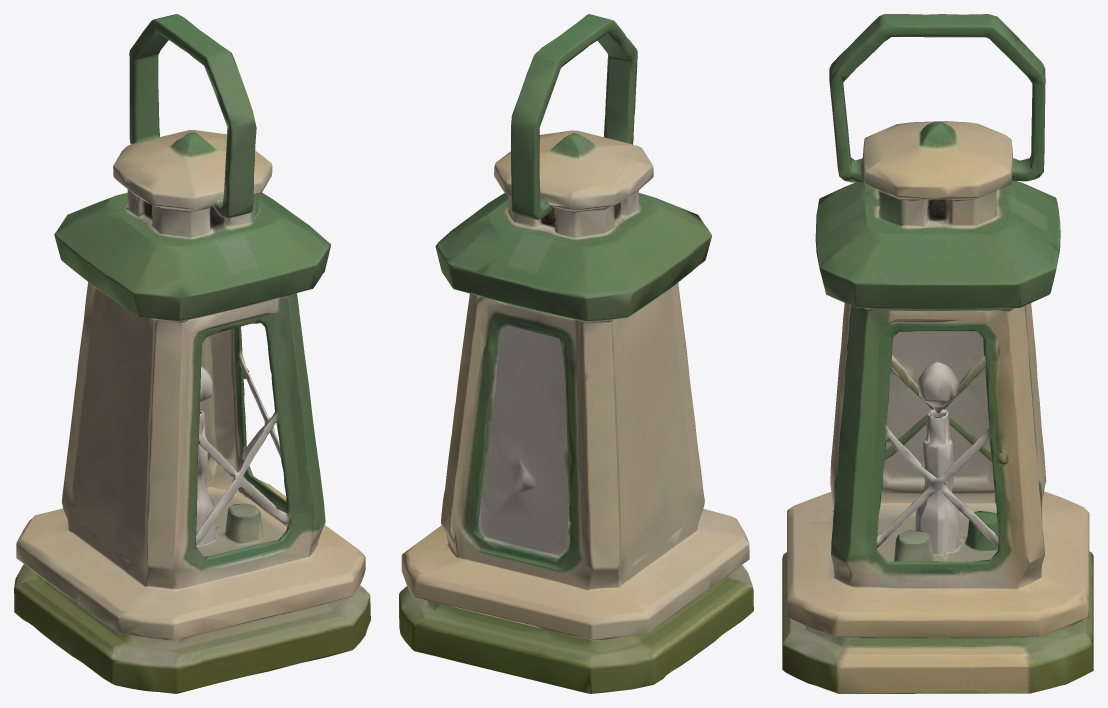
File: lantern.glb
3 renders of one model, left to right at view 1: azimuth 30°, elevation 25°; view 2: azimuth 150°, elevation 25°; view 3: azimuth 270°, elevation 25°, orthographic. The views are drawn at different scales.
Visible parts, largest first — view 1: tripo_node_8b0ec809-9fd0-4a44-9c52-1e896ed99e69; view 2: tripo_node_8b0ec809-9fd0-4a44-9c52-1e896ed99e69; view 3: tripo_node_8b0ec809-9fd0-4a44-9c52-1e896ed99e69.
Boxes of the visible parts, x1,y1,x2,y2 form: tripo_node_8b0ec809-9fd0-4a44-9c52-1e896ed99e69: (14, 14, 370, 693); tripo_node_8b0ec809-9fd0-4a44-9c52-1e896ed99e69: (399, 14, 753, 693); tripo_node_8b0ec809-9fd0-4a44-9c52-1e896ed99e69: (782, 14, 1093, 693).
Bounding box in the file's own units: 0.4695 × 1 × 0.4639.
Materials: 1 (1 with a texture image).
